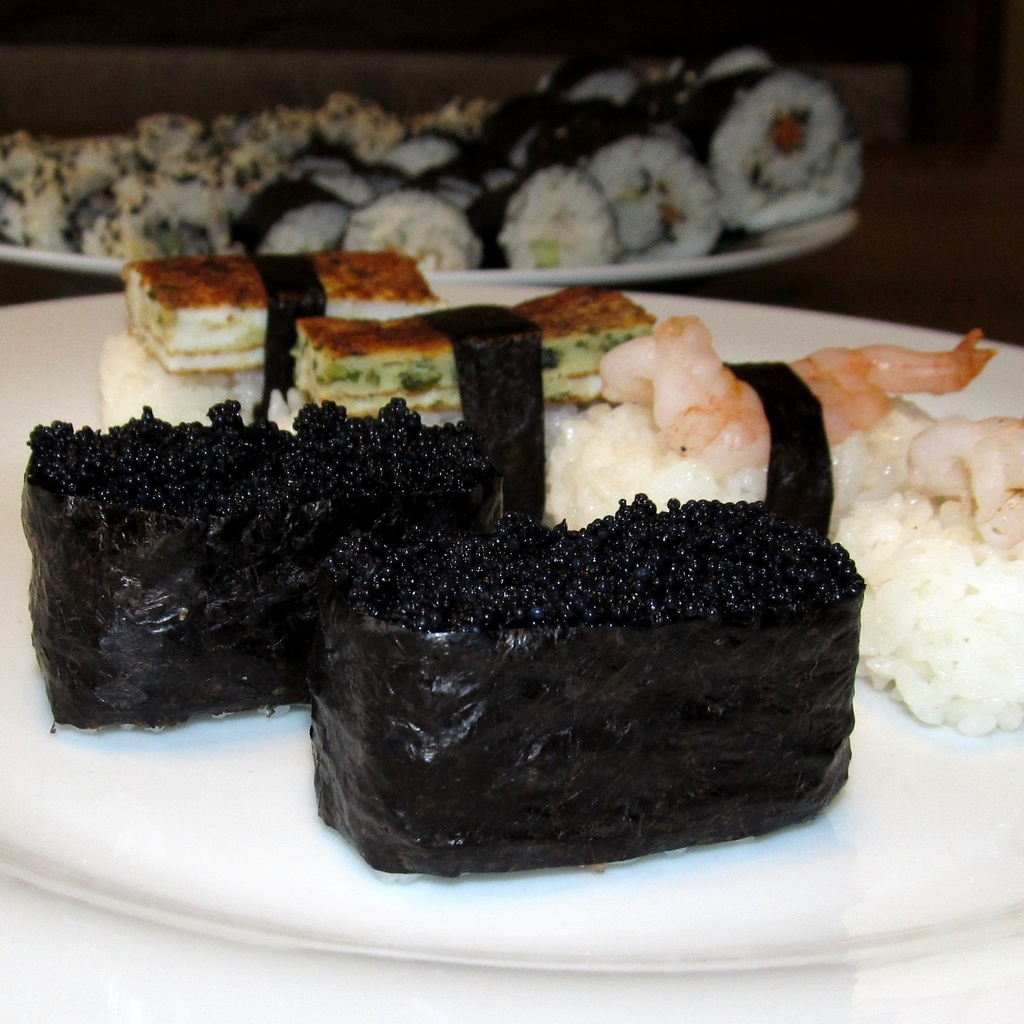sushi: (25, 244, 1023, 883), (0, 42, 856, 273), (486, 346, 811, 544)
